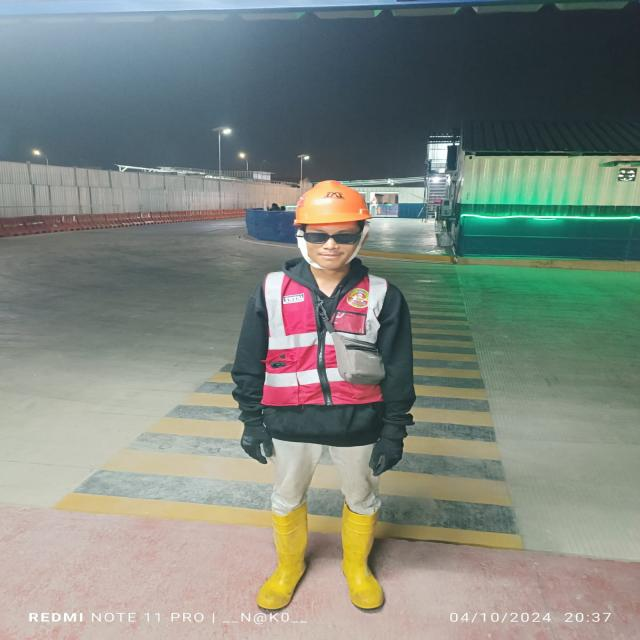gloves: (232, 422, 285, 464), (366, 442, 406, 473)
goggles: (297, 227, 375, 249)
helmet: (295, 182, 369, 222)
safety_vest: (262, 271, 391, 412)
